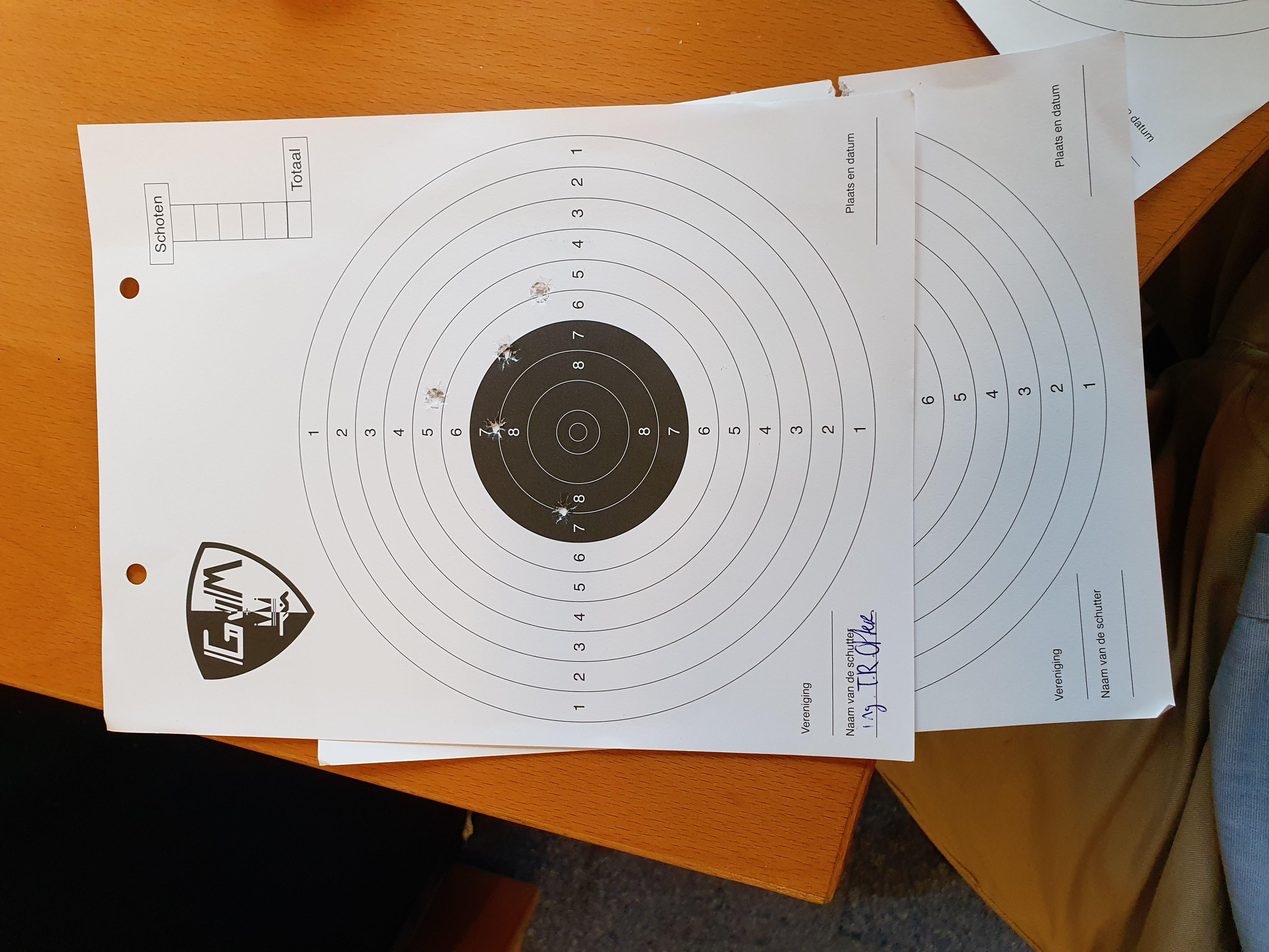hole: (570, 411, 613, 434), (860, 395, 899, 417), (778, 368, 813, 390), (682, 360, 717, 381), (719, 317, 758, 335)
